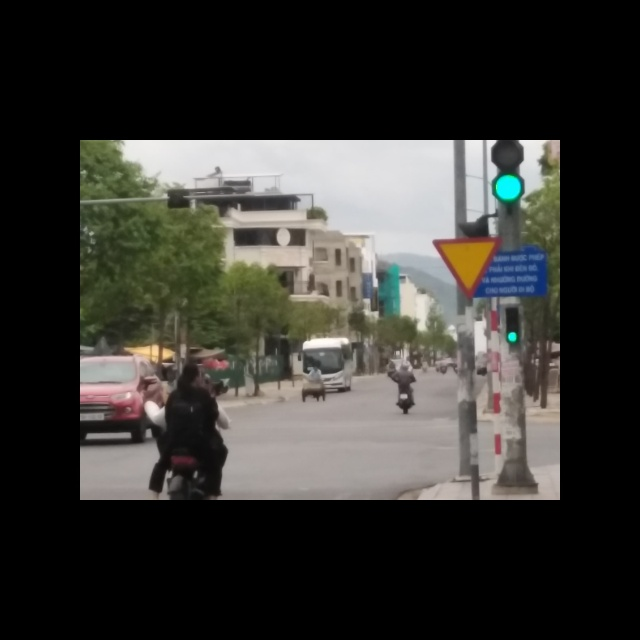Giao nhau với đường ưu tiên: (431, 237, 501, 301)
Đèn xanh: (494, 172, 524, 202)
